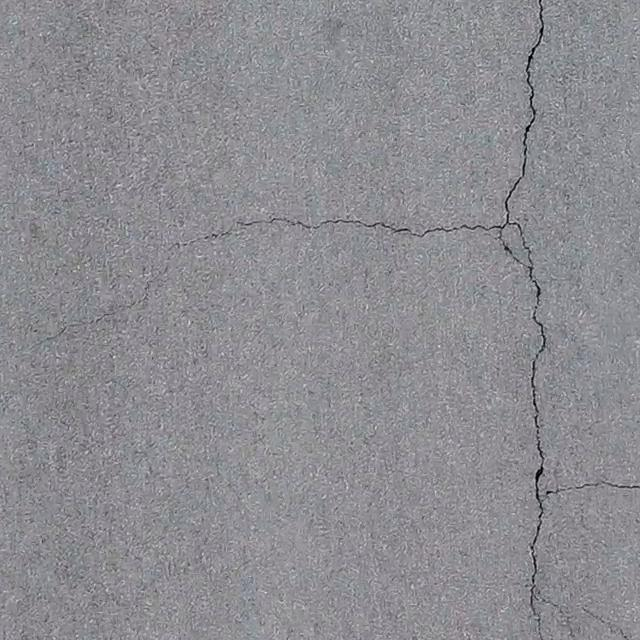GRIETA: (498, 0, 546, 639), (165, 217, 500, 252), (110, 262, 169, 315), (36, 313, 108, 343), (582, 606, 633, 639), (537, 595, 575, 639), (545, 480, 639, 495)
